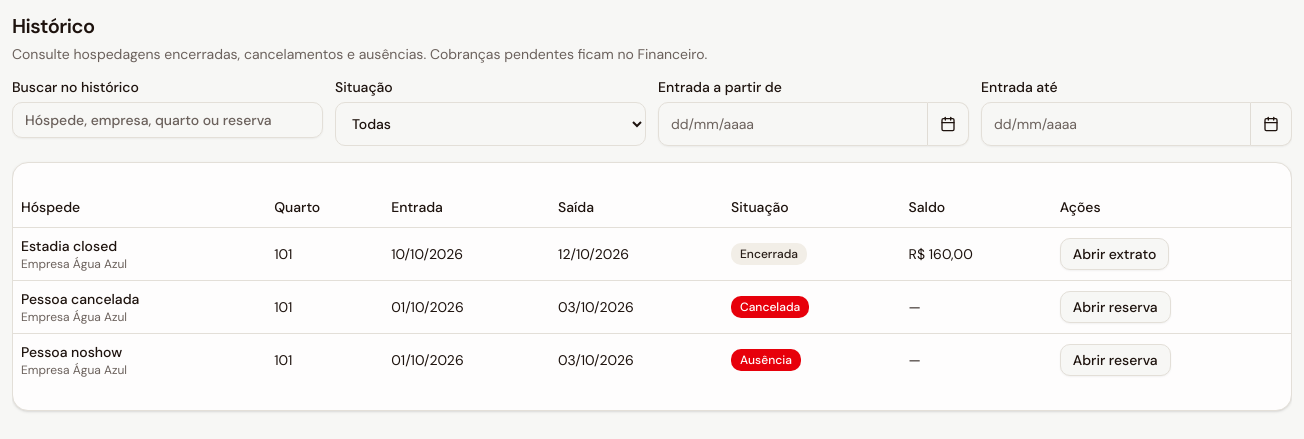
Test: Histórico separado da operação › valida período invertido e inclui o último dia selecionado
Type "01/10/2026" into the field labelled "Entrada até" at (1116, 124), box left=981, top=102, right=1251, bottom=146
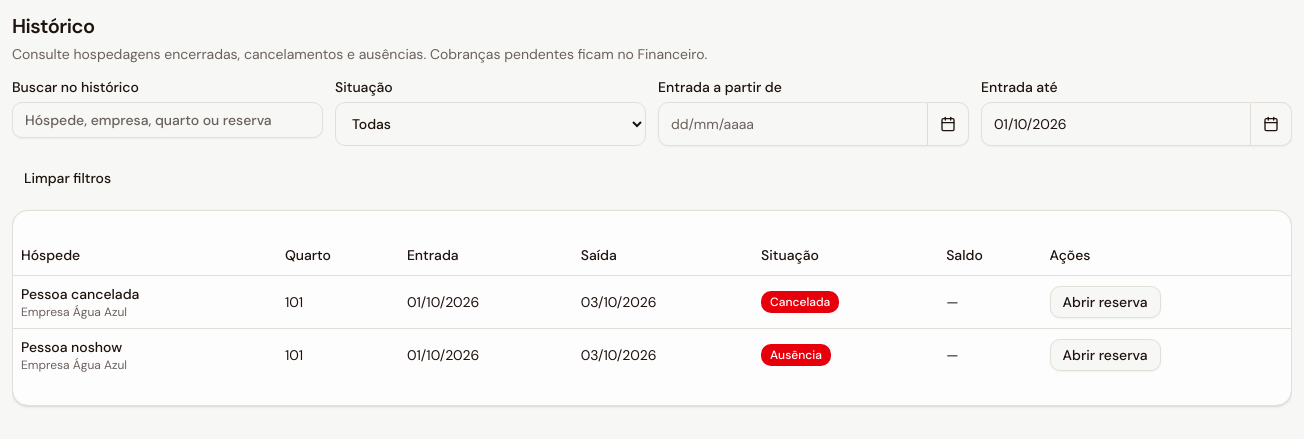
Check: the number of buttons named "Ver detalhes de" is 2, box left=1050, top=286, right=1160, bottom=318; left=1050, top=338, right=1160, bottom=370
Type "02/10/2026" into the field labelled "Entrada a partir de" at (793, 124), box left=658, top=102, right=928, bottom=146
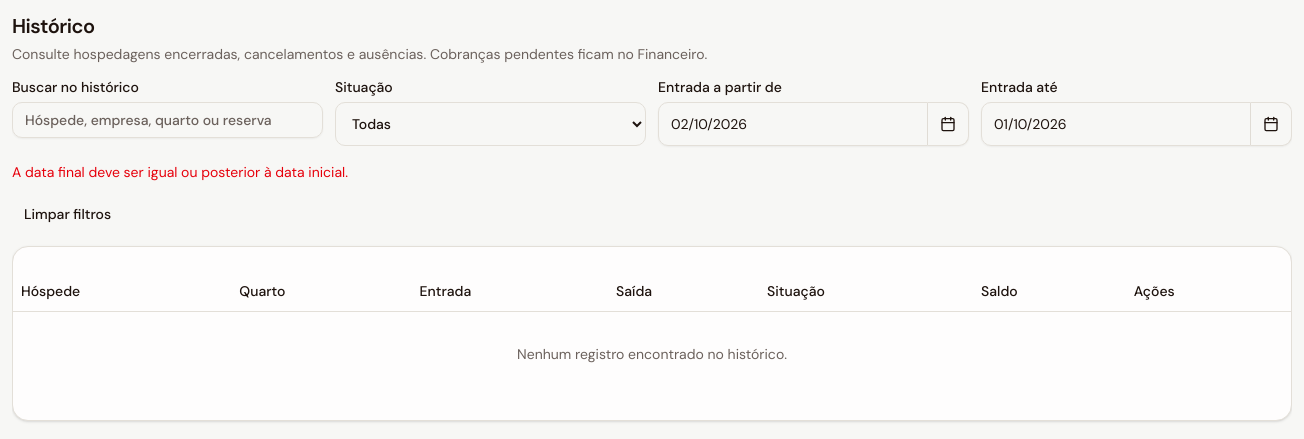
Check: the message shows "data final", box left=12, top=163, right=348, bottom=181
